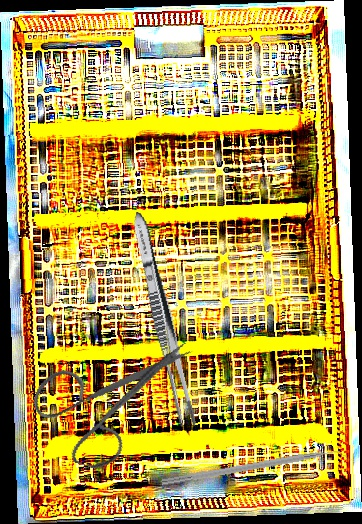Chopper: (159, 445, 354, 497)
Dressing Forceps: (126, 209, 201, 431)
Iris Scissors: (19, 303, 195, 487)
